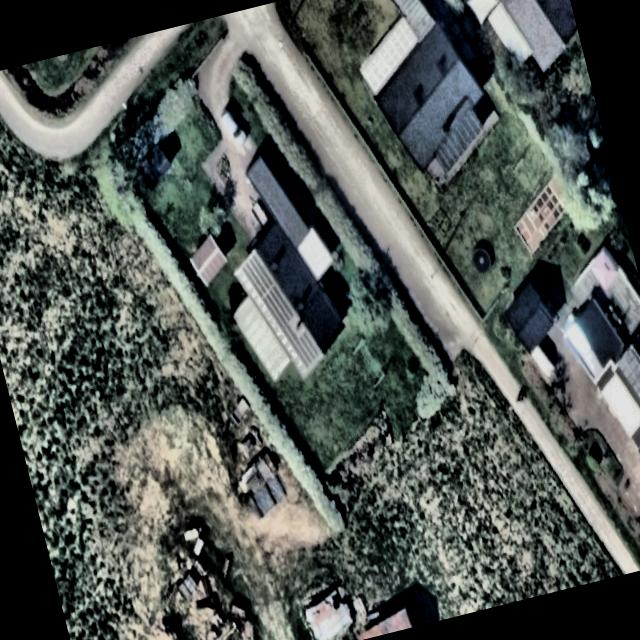roof_pv: (238, 248, 278, 302), (257, 278, 296, 329), (286, 330, 324, 370), (278, 318, 300, 341)
